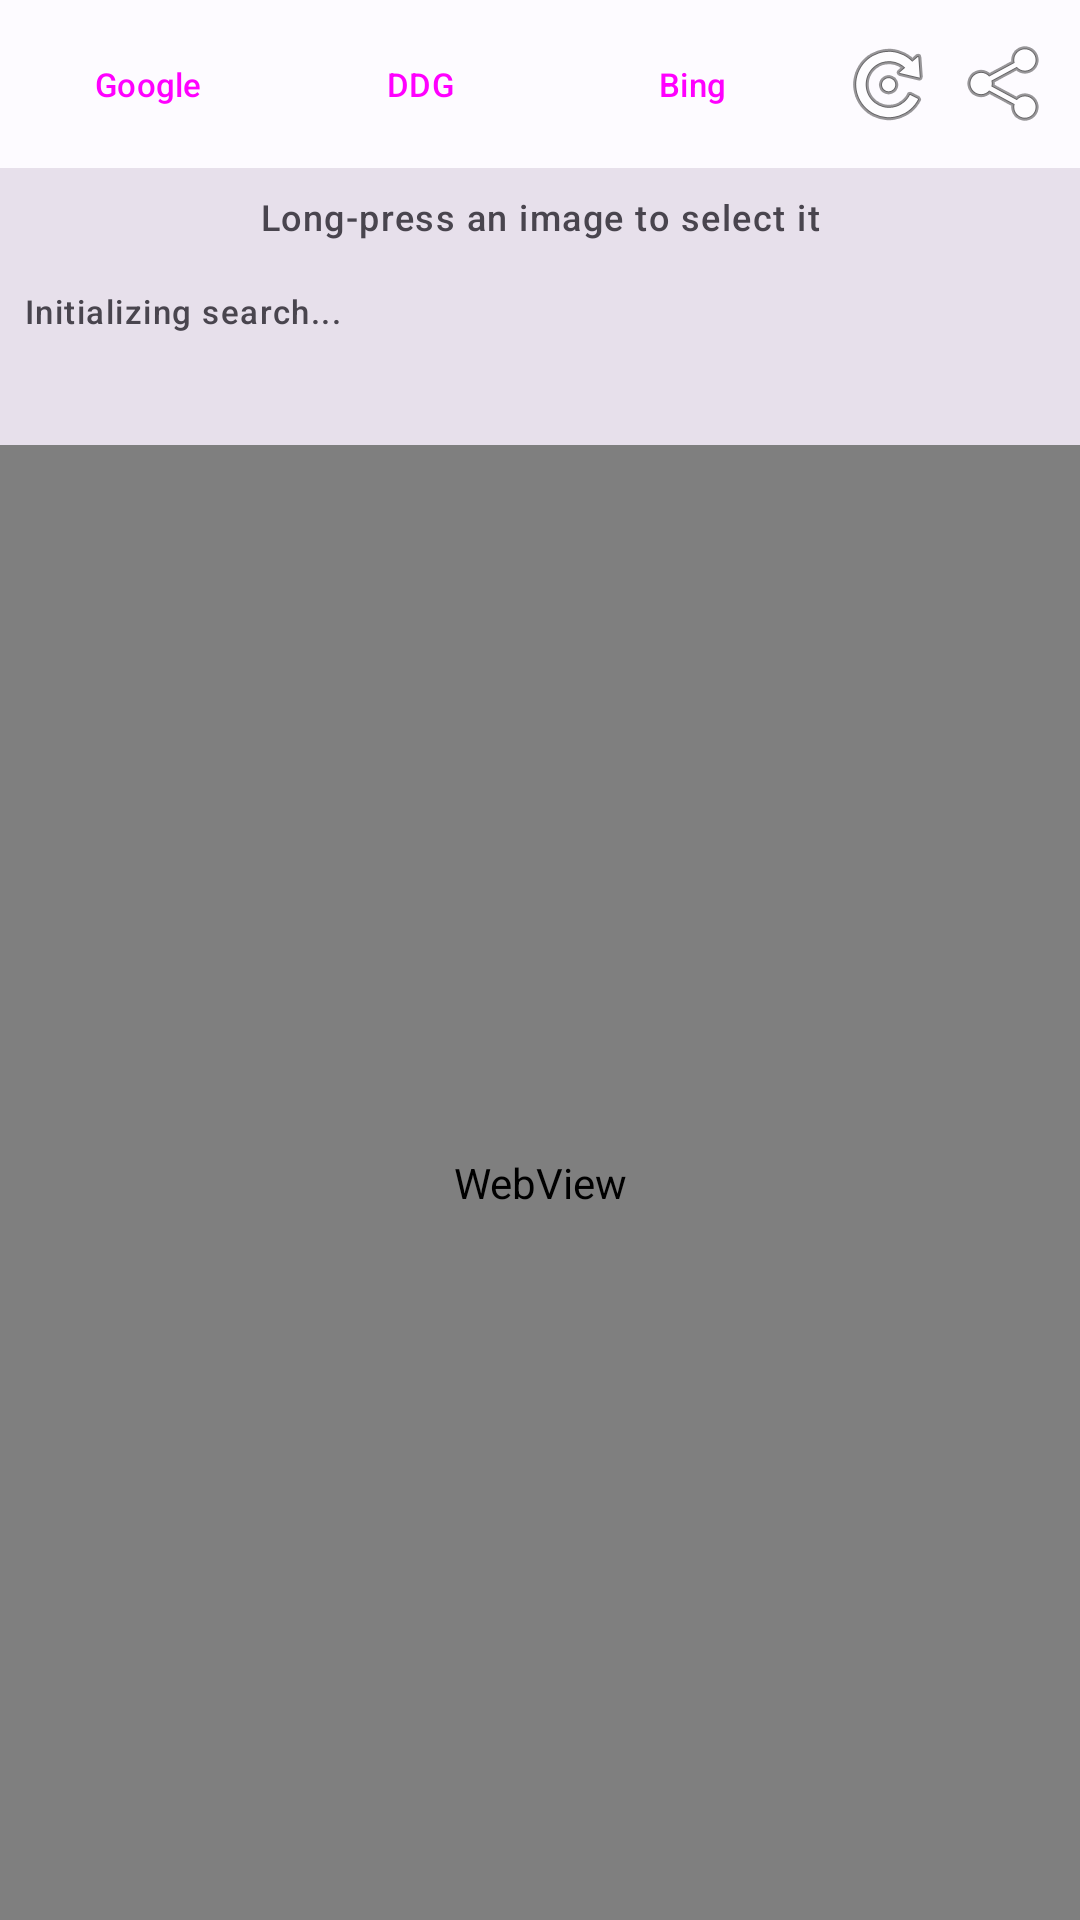

Locate icon controls on the screen. Image size 1080 x 1920, boxes as (x1, y1, x2, y2).
Reload: (853, 49, 923, 120)
